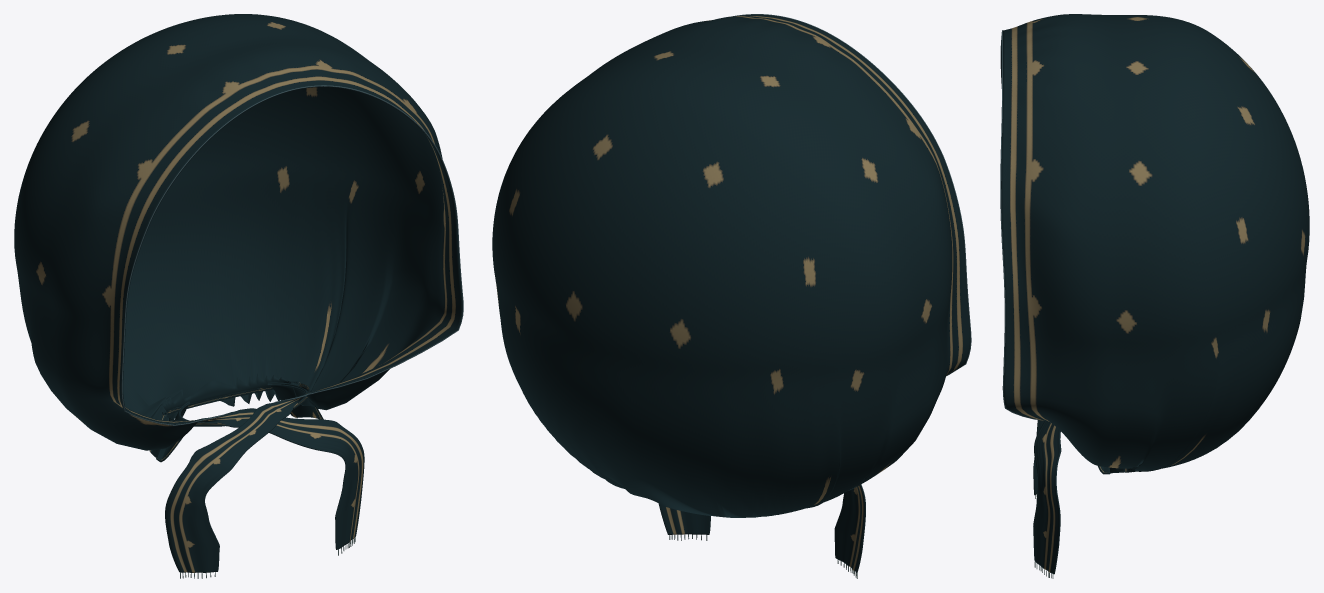
File: Masculine-flow-sweatshirt-pashmina250-headgear.glb
3 views of the same model, side by side, from view 1: azimuth 30°, elevation 25°; view 2: azimuth 150°, elevation 25°; view 3: azimuth 270°, elevation 25° (orthographic). The views are drawn at different scales.
Visible parts, largest first — view 1: 226 headgear / Headwear / continuous woven pashmina239, 226 headgear / Headwear / face edge239; view 2: 226 headgear / Headwear / continuous woven pashmina239, 226 headgear / Headwear / face edge239; view 3: 226 headgear / Headwear / continuous woven pashmina239, 226 headgear / Headwear / face edge239.
Boxes of the visible parts, left/top/right/bottom form: 226 headgear / Headwear / continuous woven pashmina239: left=14, top=14, right=462, bottom=572; 226 headgear / Headwear / face edge239: left=121, top=85, right=463, bottom=425; 226 headgear / Headwear / continuous woven pashmina239: left=492, top=14, right=970, bottom=572; 226 headgear / Headwear / face edge239: left=731, top=14, right=971, bottom=375; 226 headgear / Headwear / continuous woven pashmina239: left=1001, top=14, right=1309, bottom=574; 226 headgear / Headwear / face edge239: left=1000, top=30, right=1037, bottom=419.
Size of the model in its own units: 1.1 by 1.4 by 0.7763.
Materials: 3 (1 with a texture image).
